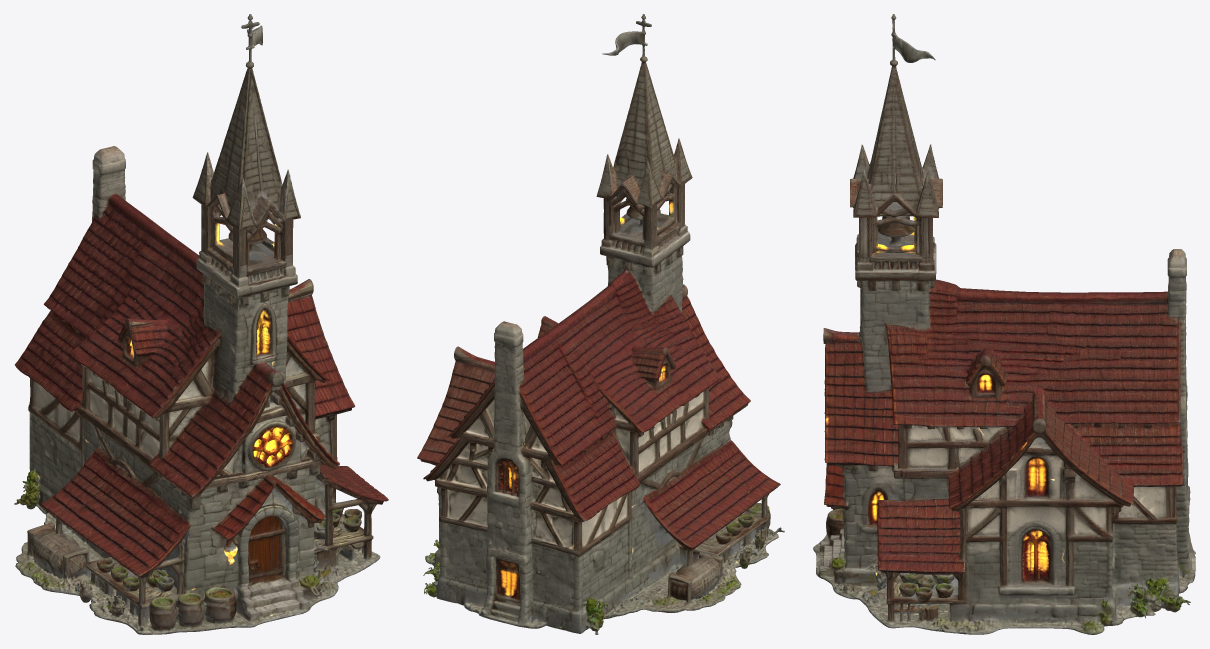
Rendered from OakHillChurch_300k.glb.
3 views of the same model, side by side, from view 1: azimuth 30°, elevation 25°; view 2: azimuth 150°, elevation 25°; view 3: azimuth 270°, elevation 25° (orthographic). The views are drawn at different scales.
Parts seen in each view (by area): view 1: Mesh_0; view 2: Mesh_0; view 3: Mesh_0.
Boxes of the visible parts, x1,y1,x2,y2 form: Mesh_0: (14,14,388,634); Mesh_0: (417,14,784,634); Mesh_0: (813,14,1195,634).
Size of the model in its own units: 1.05 by 1.9 by 1.19.
Materials: 1 (1 with a texture image).
